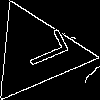L: (11, 27, 71, 72)
